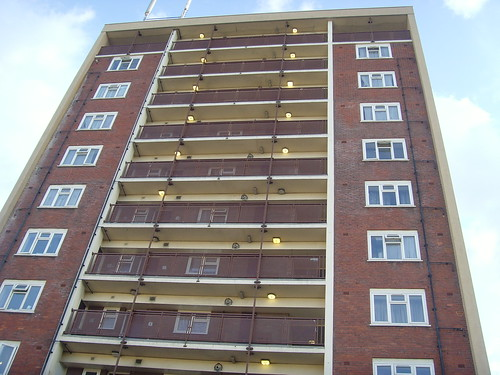building: (1, 7, 473, 375)
